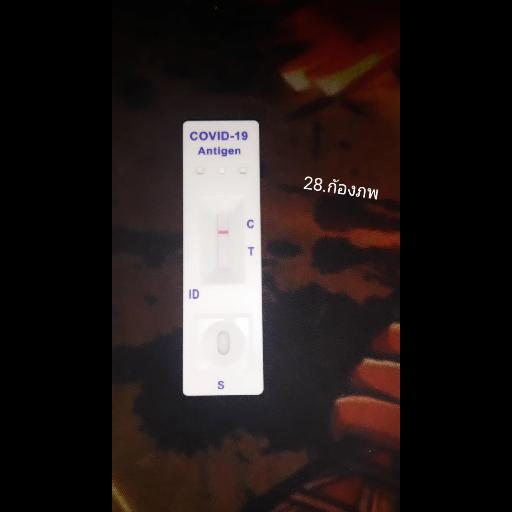Neg: (182, 121, 264, 396)
